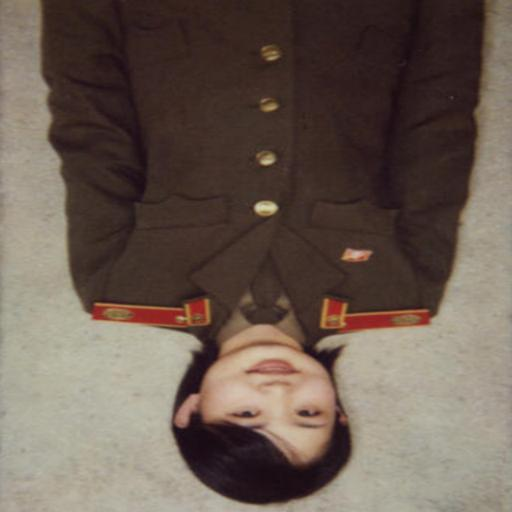north army: (15, 0, 473, 507)
